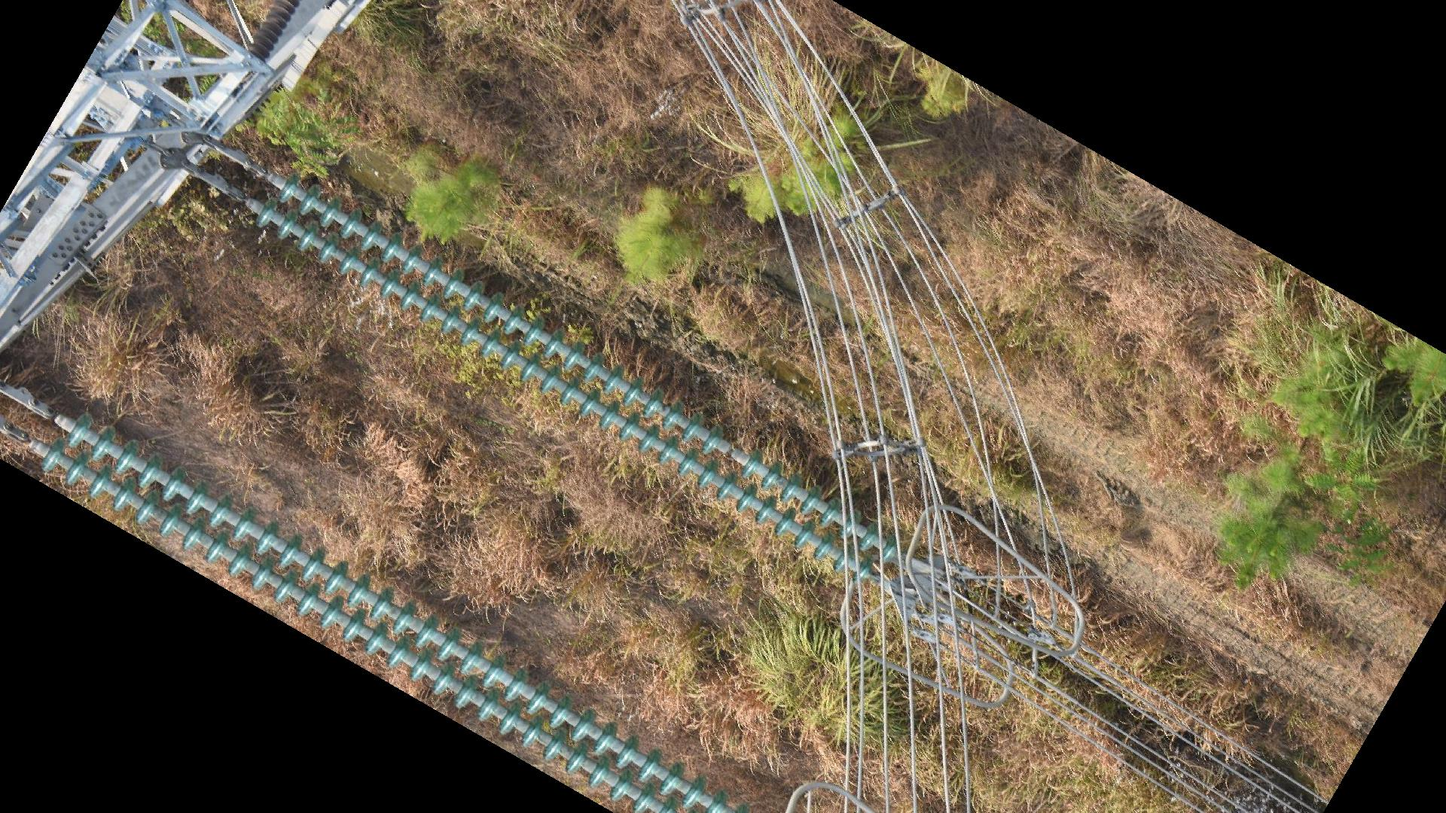insulator: (35, 410, 749, 813), (251, 171, 908, 588)
insulator_stringdrop: (698, 423, 767, 483)
